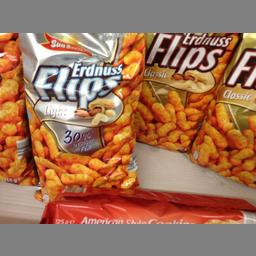chips: (17, 32, 143, 198), (138, 34, 222, 156), (200, 32, 255, 179)
